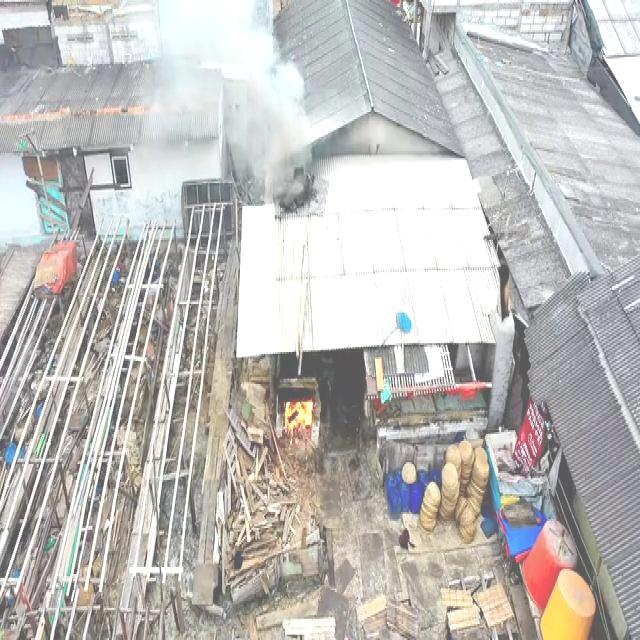smoke: (222, 68, 313, 198), (155, 5, 276, 100), (148, 68, 226, 184)
